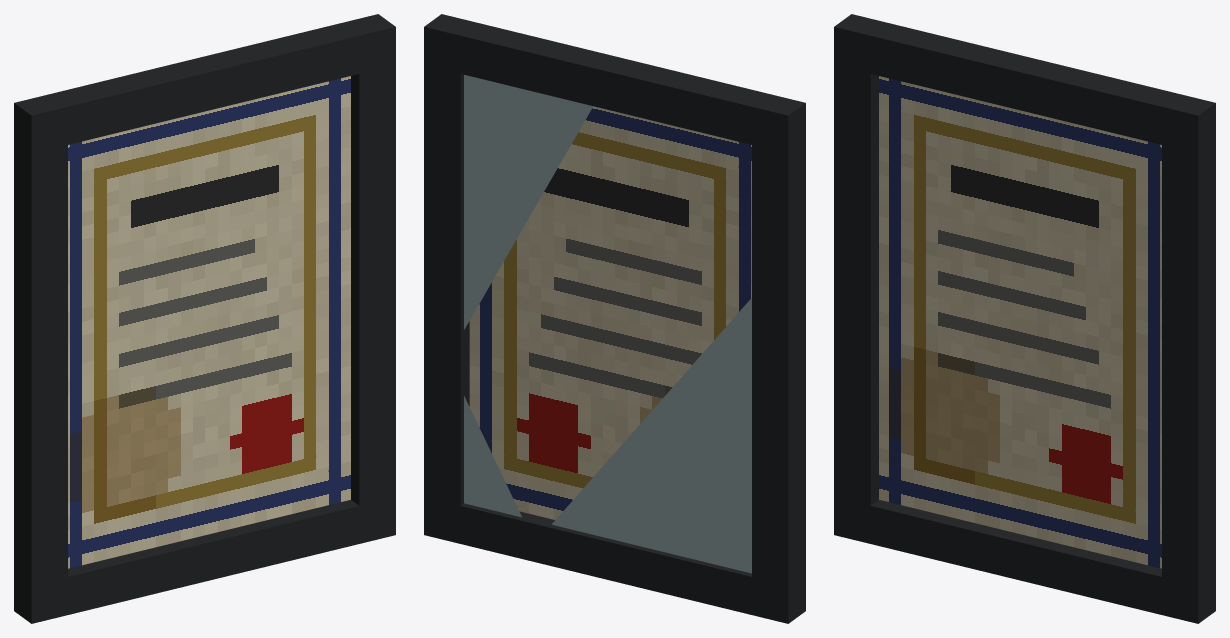
File: frame_cert_broken.fbx
3 renders of one model, left to right at view 1: azimuth 30°, elevation 25°; view 2: azimuth 150°, elevation 25°; view 3: azimuth 330°, elevation 25°, orthographic.
Visible parts, largest first — view 1: frame_cert_broken; view 2: frame_cert_broken; view 3: frame_cert_broken.
Part boxes in pixels (x1,y1,x2,y2): frame_cert_broken: (14,14,395,623); frame_cert_broken: (424,14,805,623); frame_cert_broken: (834,14,1215,623).
Size of the model in its own units: 0.3 by 0.4 by 0.025.
